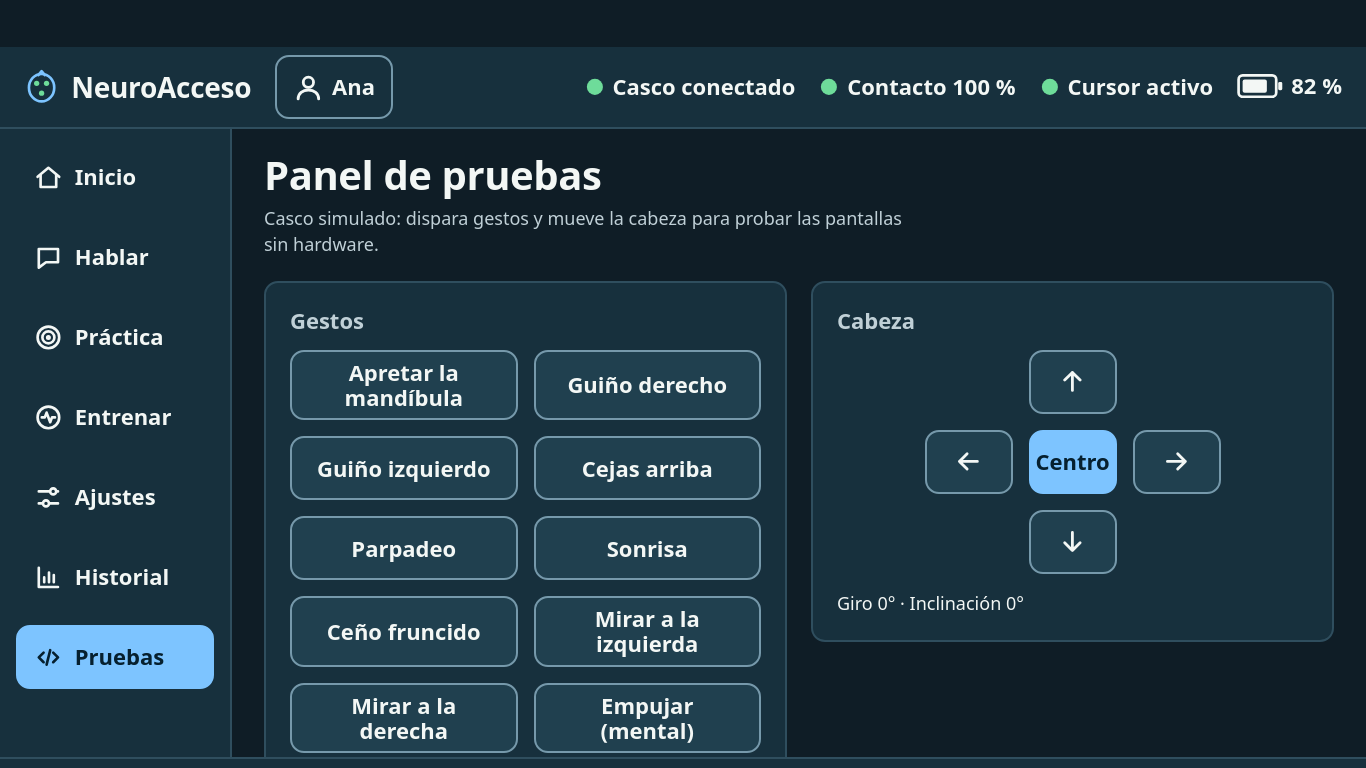
Test: panel de pruebas › un botón de gesto lo dispara y se ve en el resto de la app
(page scrolled)
Step 1. Click the button "Apretar la mandíbula" → [404, 385], box [290,350,518,420]
(page scrolled)
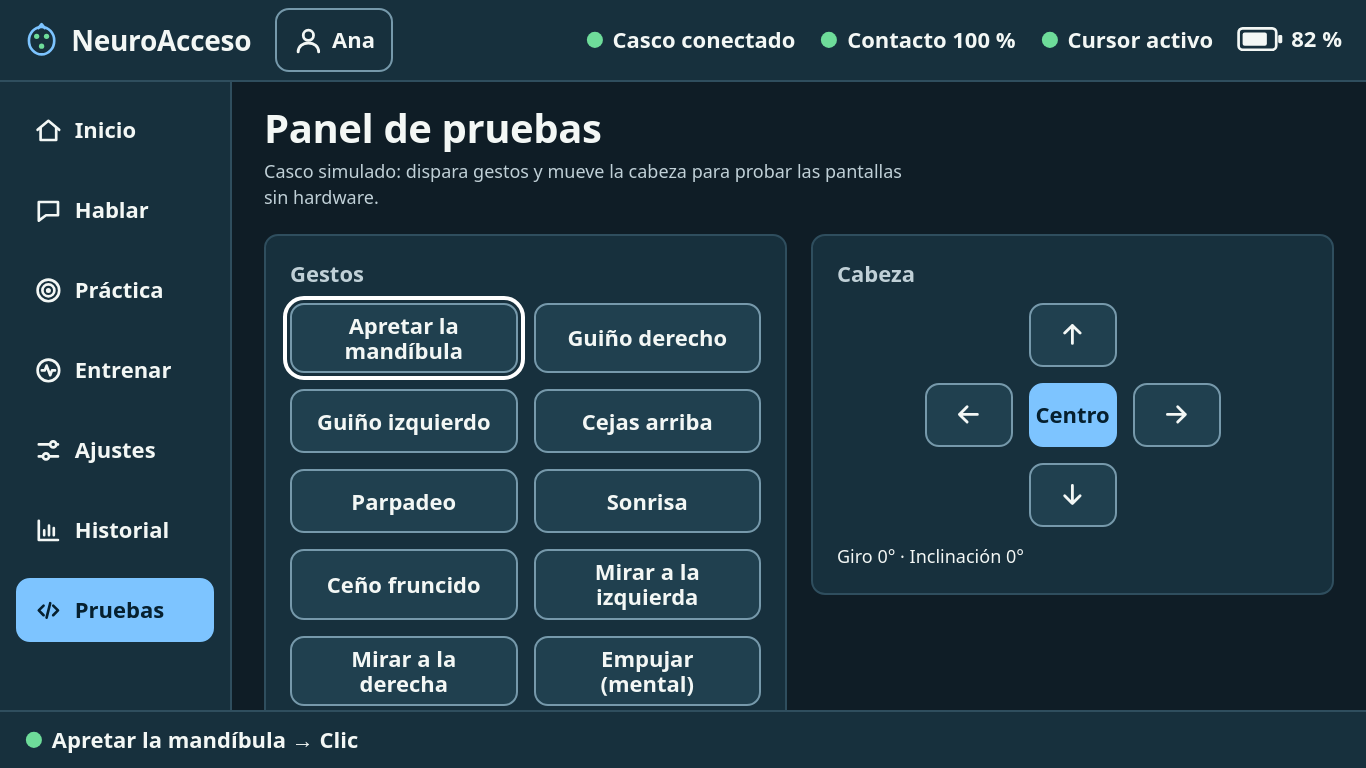
Now the message named "Último gesto" reads "Apretar la mandíbula → Clic", box [52,724,358,754]
